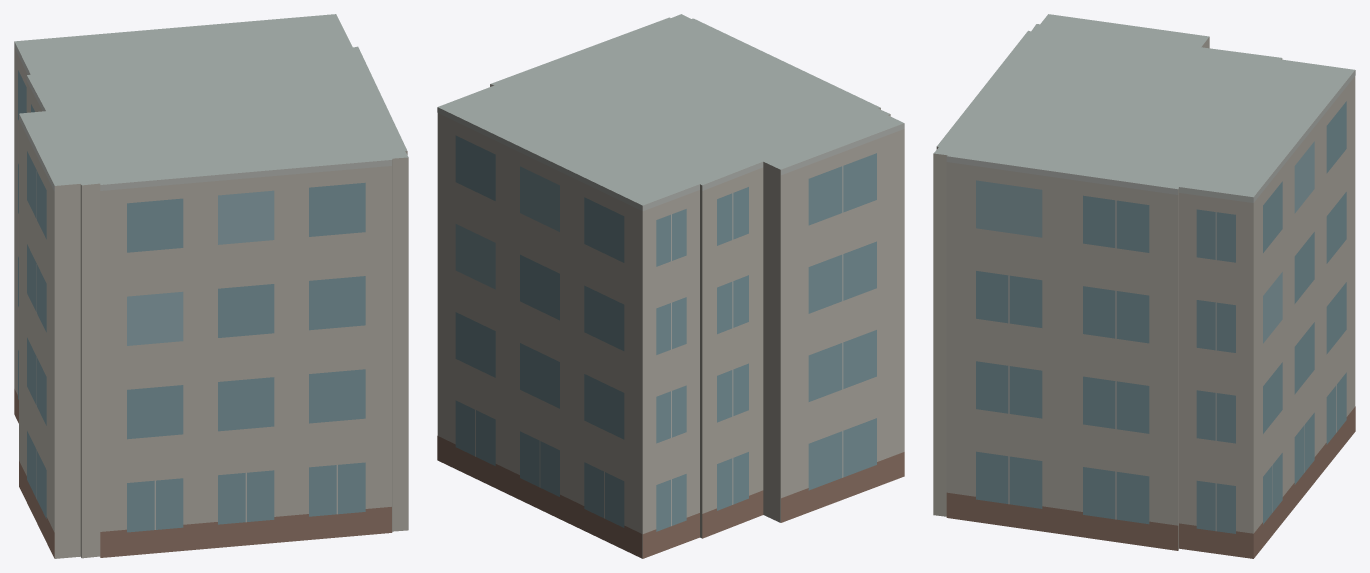
The model's file is survey-upis-32652833.glb.
3 renders of one model, left to right at view 1: azimuth 30°, elevation 25°; view 2: azimuth 150°, elevation 25°; view 3: azimuth 270°, elevation 25°, orthographic. The views are drawn at different scales.
Parts seen in each view (by area): view 1: survey-upis-32652833.tmp; view 2: survey-upis-32652833.tmp; view 3: survey-upis-32652833.tmp.
Boxes of the visible parts, x1,y1,x2,y2 form: survey-upis-32652833.tmp: [14, 14, 408, 558]; survey-upis-32652833.tmp: [437, 14, 904, 558]; survey-upis-32652833.tmp: [933, 14, 1355, 558].
Bounding box in the file's own units: 16.42 × 15.1 × 15.97.
